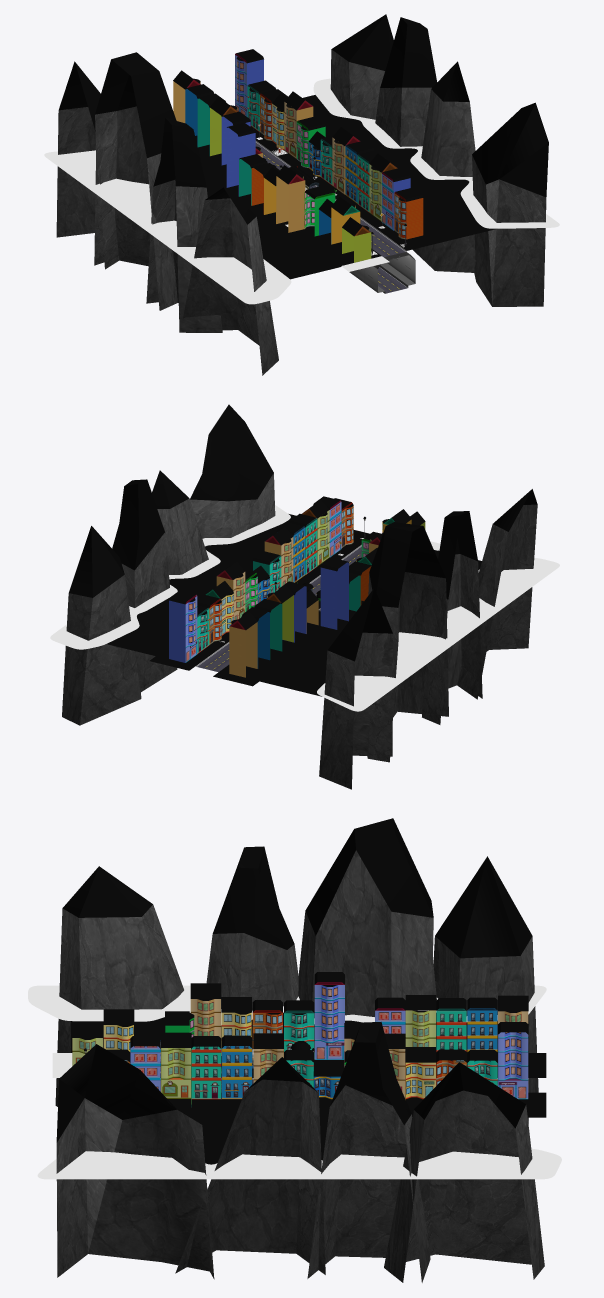
The model's file is citywinter_17.fbx.
3 renders of one model, top to bottom at view 1: azimuth 30°, elevation 25°; view 2: azimuth 150°, elevation 25°; view 3: azimuth 270°, elevation 25°, orthographic. The views are drawn at different scales.
Visible parts, largest first — view 1: City_17; view 2: City_17; view 3: City_17.
Part boxes in pixels (x1=…): City_17: x1=44, y1=14, x2=559, y2=375; City_17: x1=50, y1=404, x2=559, y2=789; City_17: x1=28, y1=818, x2=561, y2=1282.
Bounding box in the file's own units: 22617 × 13384 × 25170.
